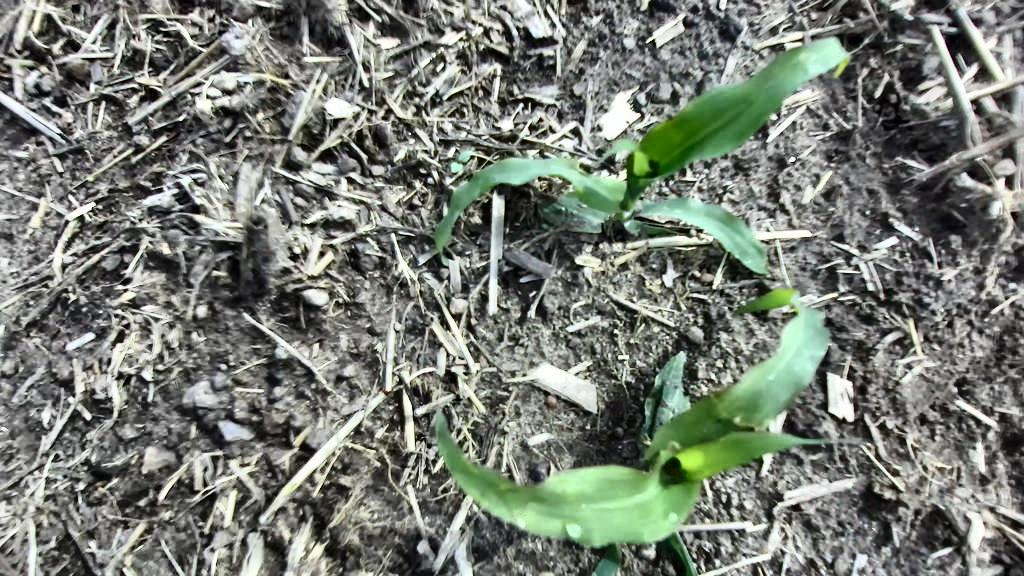BroWeed: (446, 146, 476, 176), (540, 223, 554, 232)
Maize: (414, 24, 916, 385), (422, 275, 890, 576)
